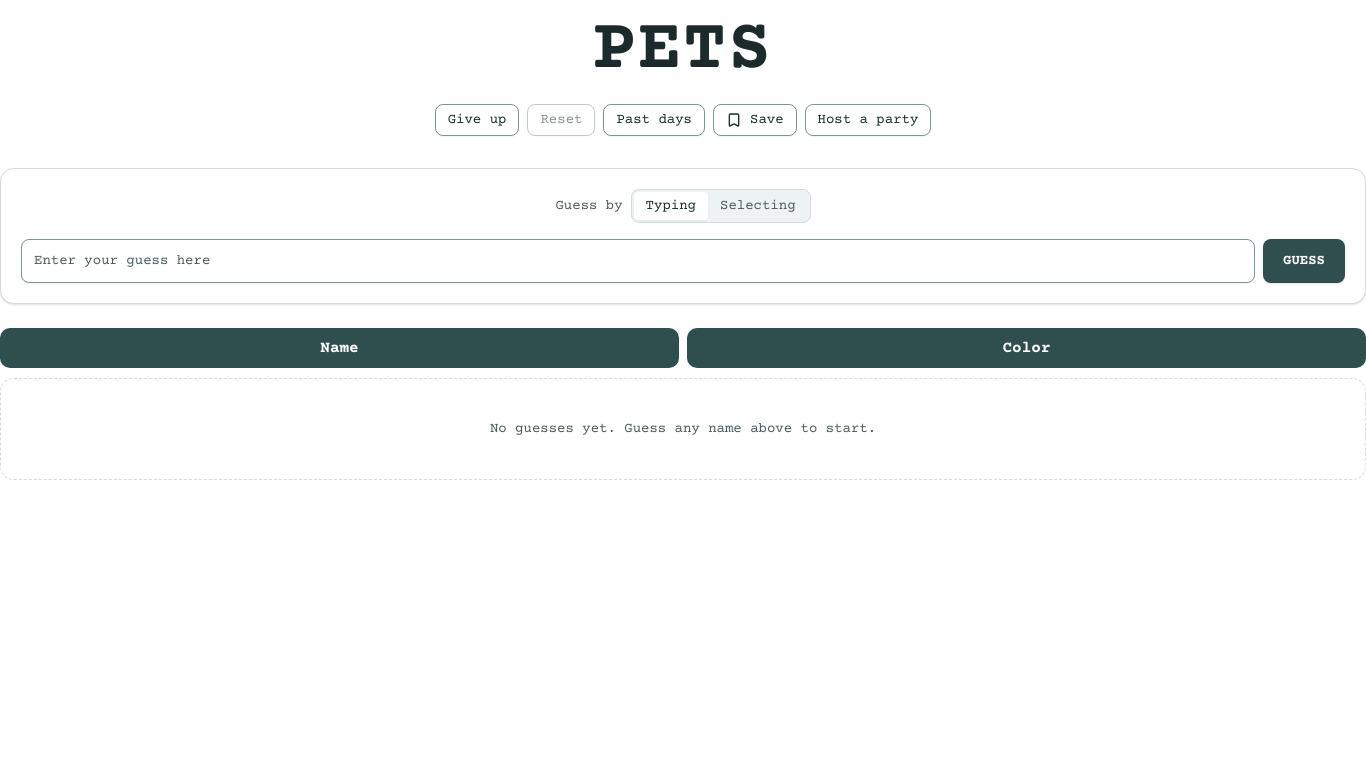
Scenario: PlayPage › the answer shows the victory banner and swaps guessing for reset
The image size is (1366, 768).
Expected: the text "No guesses yet. Guess any name above to start." is shown, [0,378,1365,480]
Type "Dido" into the dropdown named "Name".
click(638, 261); type("Dido")  # box [21,239,1255,283]
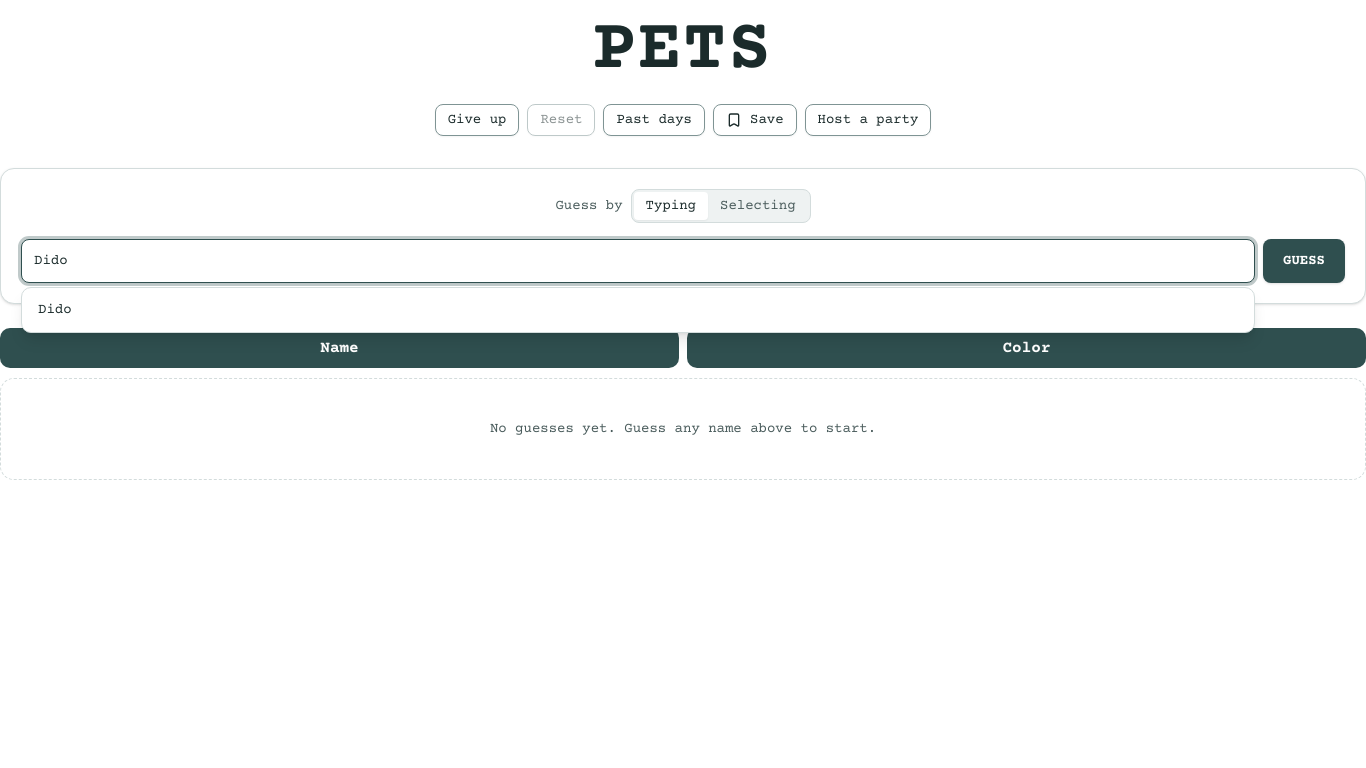
Click the button "Guess".
click(1304, 261)  # box [1263,239,1345,283]
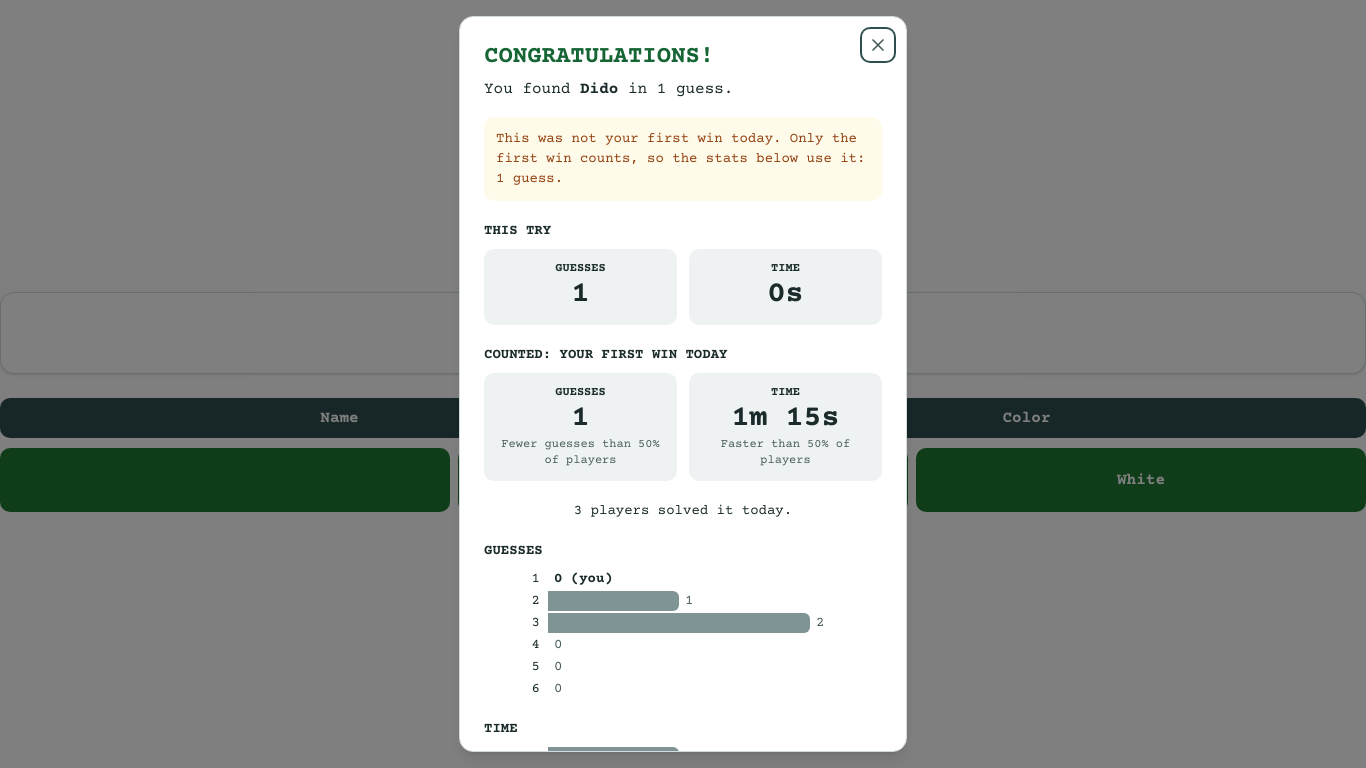
Now the text "You did it!" is shown, box [525,168,841,216]
Now the text "Naps in the sun." is shown, box [525,250,659,266]
Now the dialog is shown, box [459,16,907,752]
Press Escape
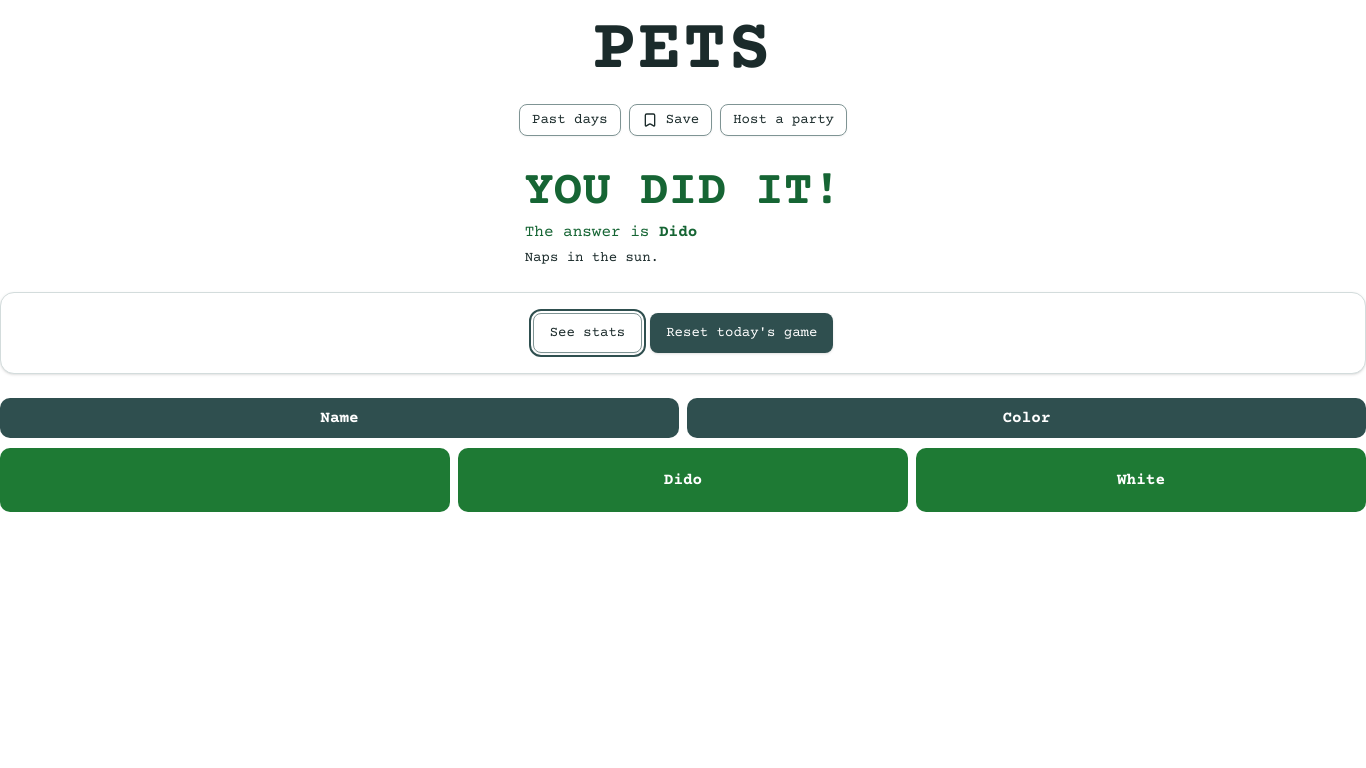
Expected: the button "Give up" is not shown
Now the button "Reset today's game" is shown, box [650,313,833,353]
Now the dialog is gone
